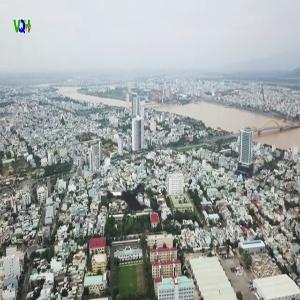drone: (75, 141, 188, 254)
